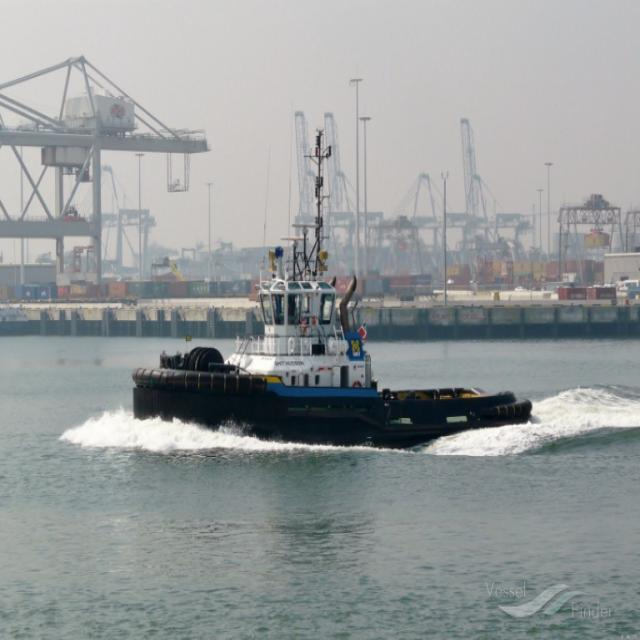tugboat: (127, 280, 524, 438)
